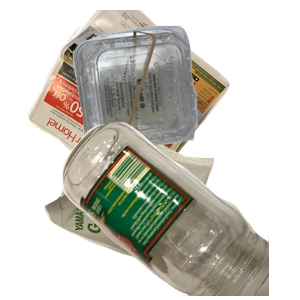glass: (60, 120, 300, 300)
paper: (23, 10, 245, 190)
plastic: (71, 23, 300, 169)
trash: (42, 126, 249, 300)
